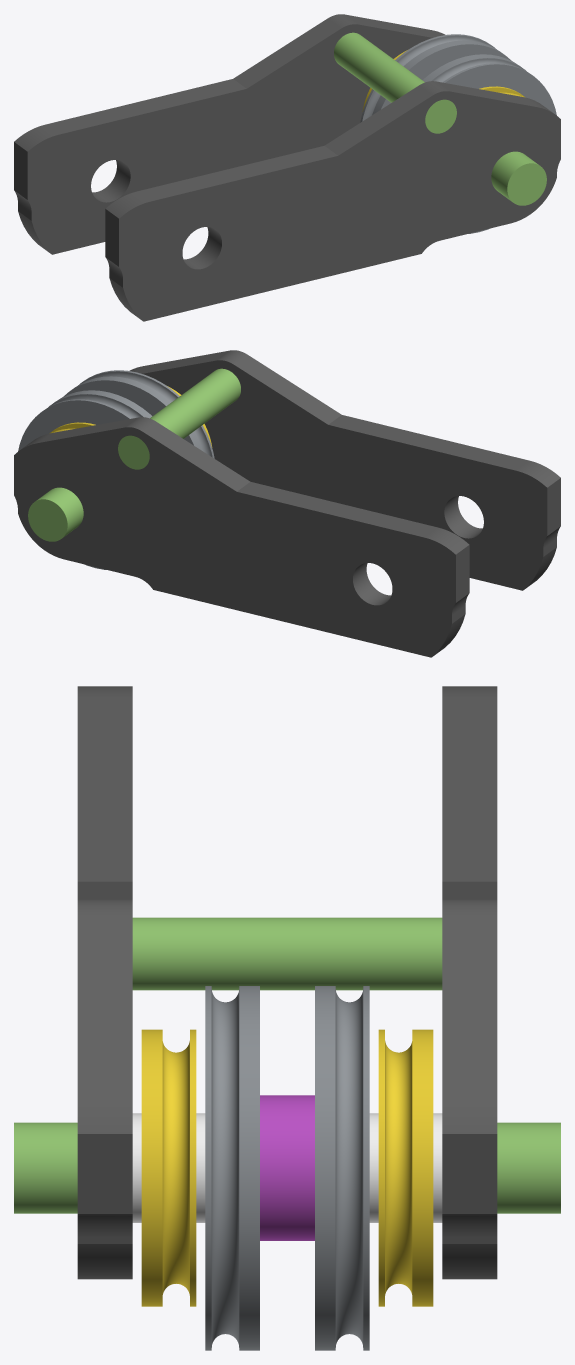
Rendered from middle.gltf.
3 views of the same model, one above another, from view 1: azimuth 30°, elevation 25°; view 2: azimuth 150°, elevation 25°; view 3: azimuth 270°, elevation 25° (orthographic). The views are drawn at different scales.
Visible parts, largest first — view 1: Part 1 (×6); view 2: Part 1 (×6); view 3: Part 1 (×13).
Part boxes in pixels (left/top/right/bottom): Part 1 (×6): left=14, top=14, right=560, bottom=321; Part 1 (×6): left=14, top=350, right=560, bottom=657; Part 1 (×13): left=14, top=686, right=560, bottom=1350.
Bounding box in the file's own units: 0.0595 × 0.0218 × 0.03.
